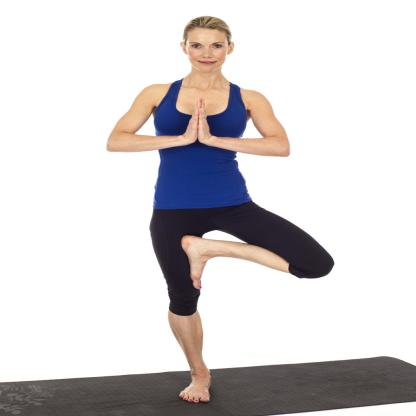tree: (99, 9, 342, 406)
